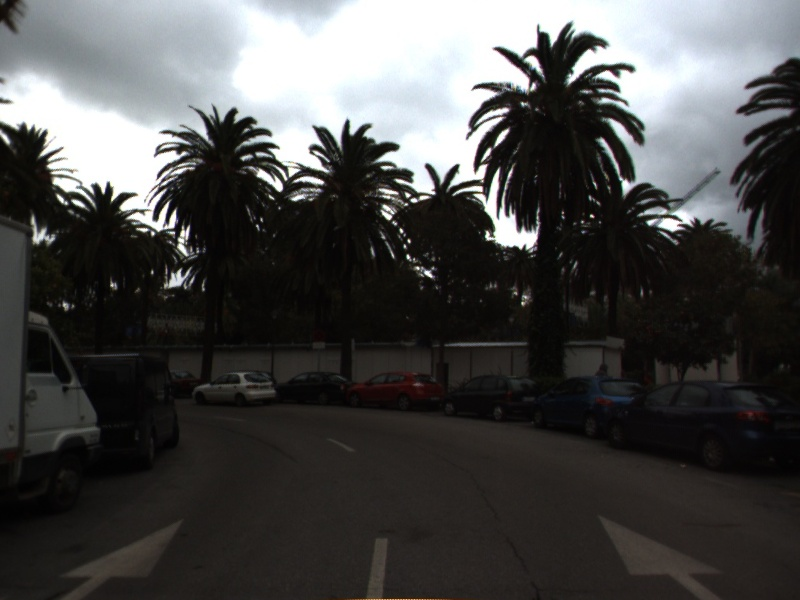STRAIGHT: (48, 516, 187, 600), (595, 513, 728, 600)
